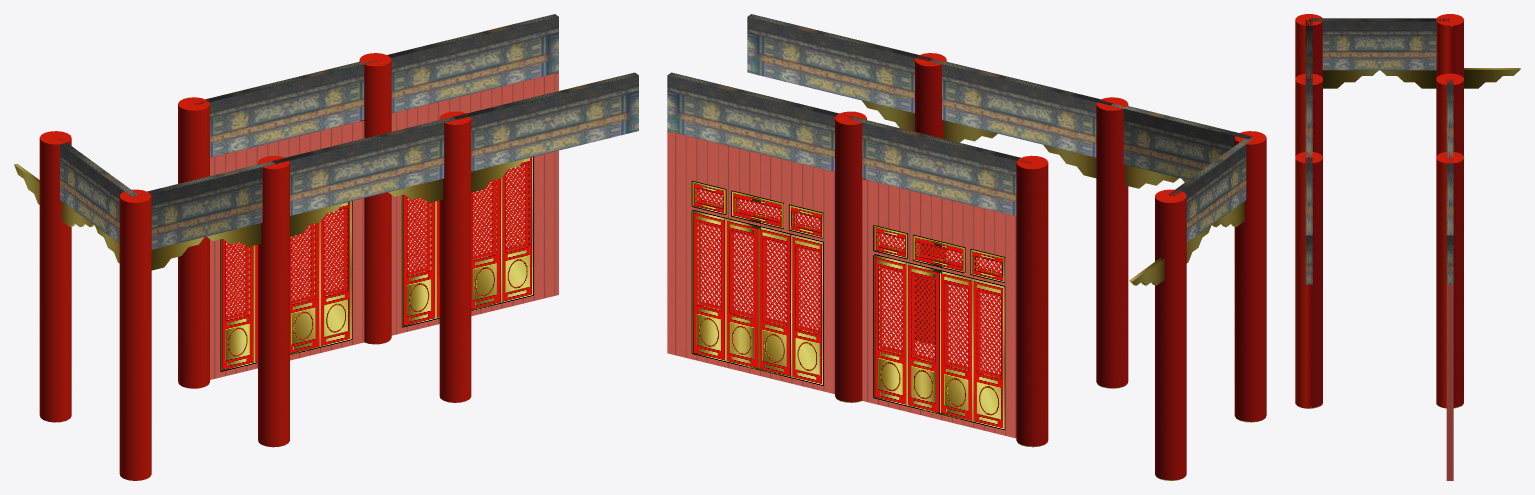
File: cornerwallwall.dae
3 renders of one model, left to right at view 1: azimuth 30°, elevation 25°; view 2: azimuth 150°, elevation 25°; view 3: azimuth 270°, elevation 25°, orthographic. The views are drawn at different scales.
Parts seen in each view (by area): view 1: MainNode; view 2: MainNode; view 3: MainNode.
Part boxes in pixels (<box>): MainNode: <box>14,14,638,480</box>; MainNode: <box>667,14,1266,480</box>; MainNode: <box>1295,14,1520,480</box>.
Bounding box in the file's own units: 9.31 × 4.8 × 4.
1 material, 1 textured.
